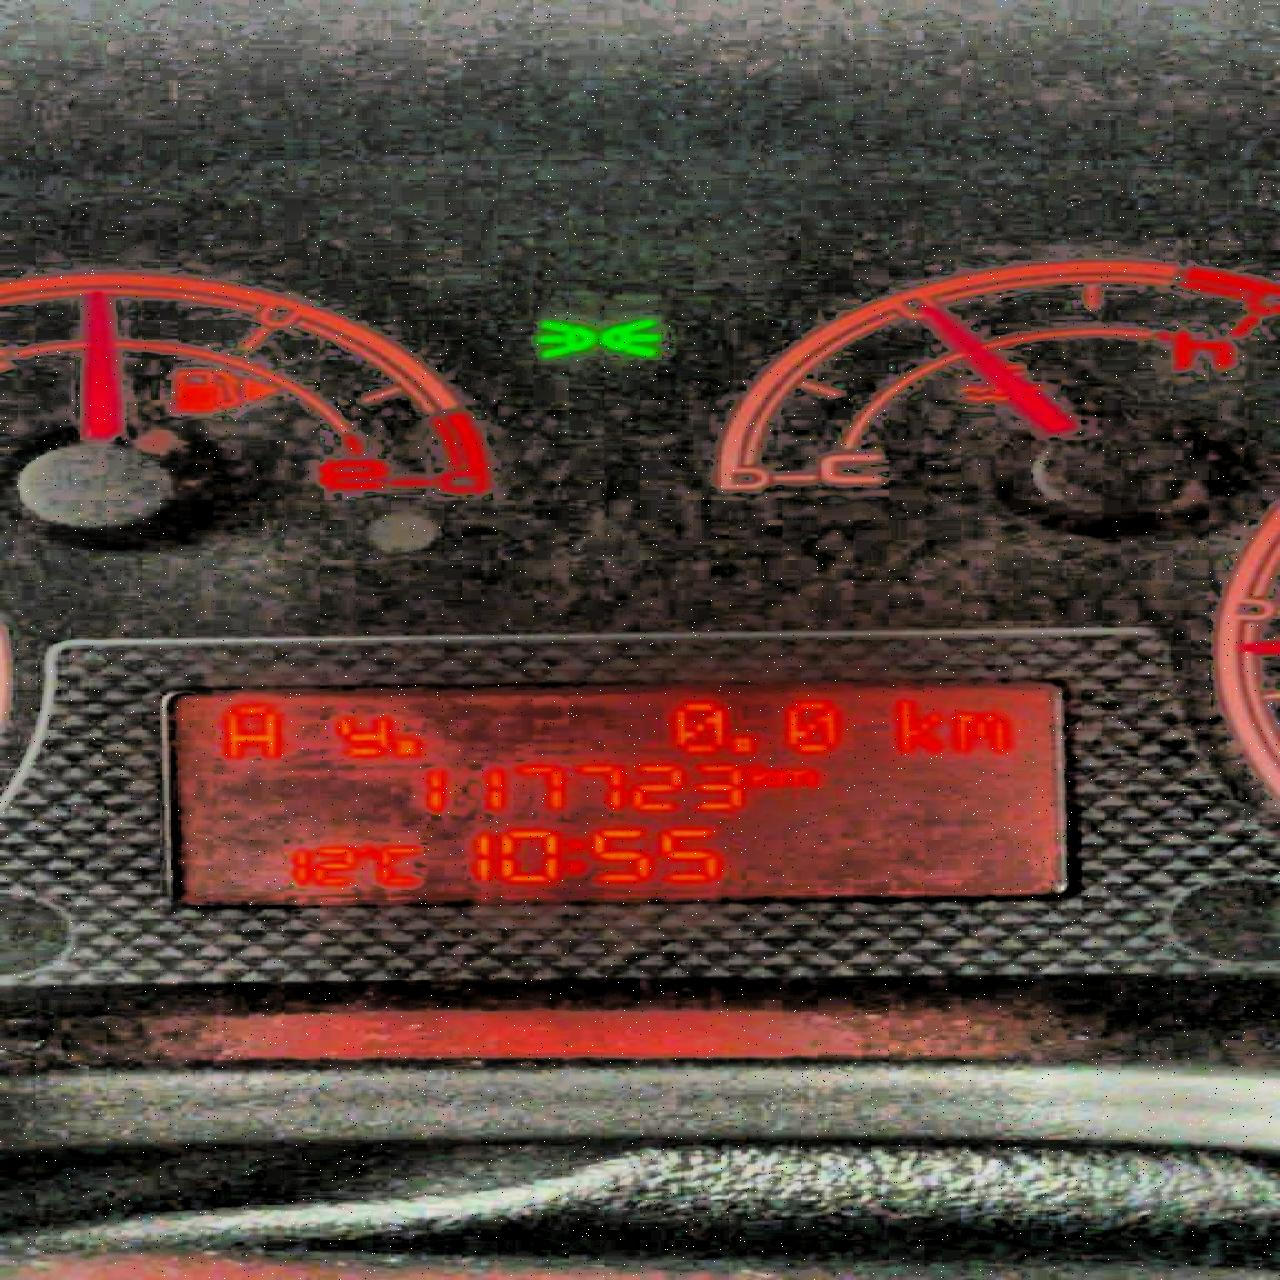-: (389, 734, 427, 758), (729, 731, 758, 754)
0: (776, 695, 844, 756), (496, 825, 560, 885), (667, 695, 729, 753)
1: (422, 763, 456, 813), (477, 765, 506, 812), (469, 830, 491, 887), (286, 844, 306, 888)
2: (626, 760, 685, 813), (312, 845, 355, 887)
3: (689, 760, 740, 813)
5: (658, 822, 724, 886), (588, 823, 649, 885)
7: (511, 760, 565, 811), (573, 758, 625, 811)
X: (220, 701, 282, 760), (891, 696, 945, 755), (949, 707, 1012, 754), (331, 714, 389, 760), (374, 845, 424, 886), (776, 764, 821, 790), (565, 833, 585, 883), (744, 760, 776, 790)
odometer: (158, 672, 1082, 914)
